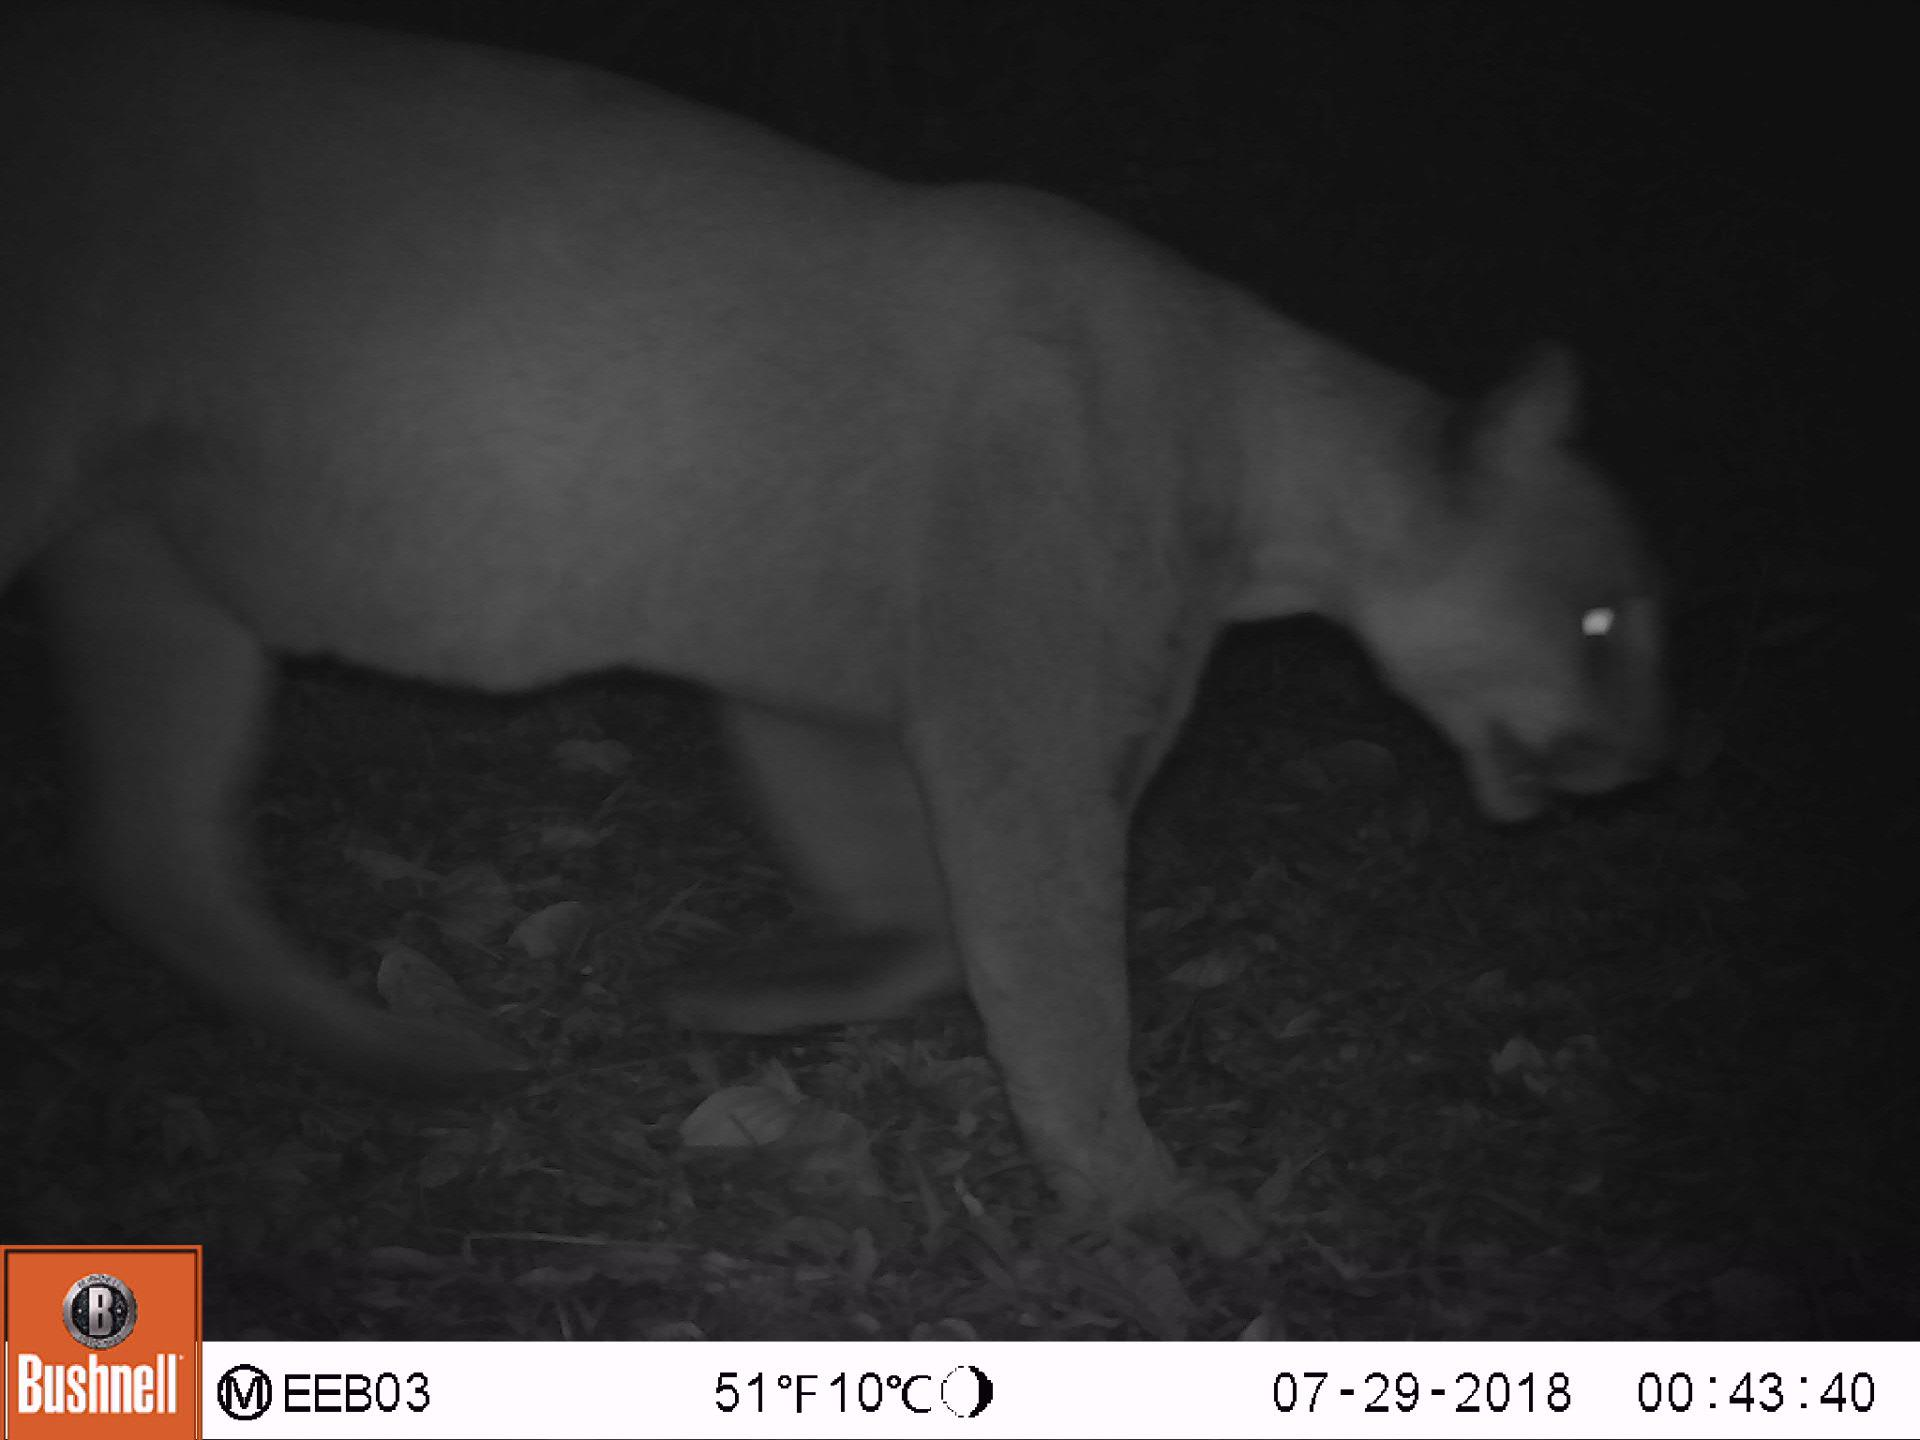OncaParda: (59, 29, 1687, 1219)
